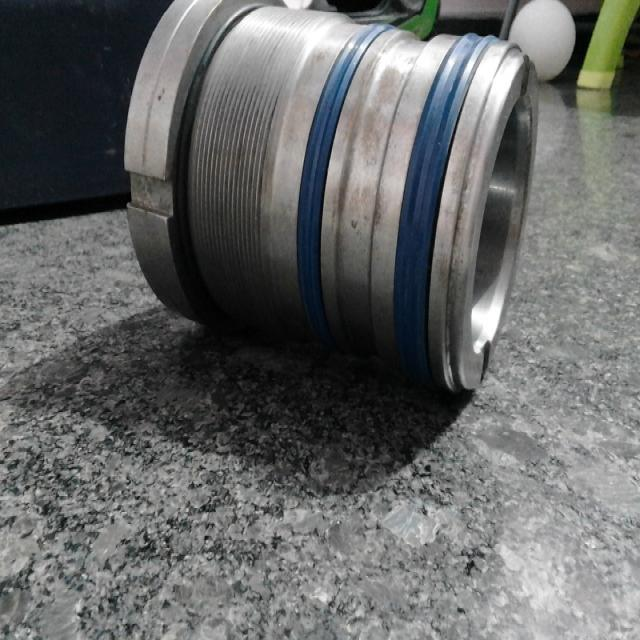black-ring: (174, 0, 280, 332)
purssian-blue-ring: (394, 33, 494, 383), (298, 27, 392, 347), (415, 15, 487, 244)
